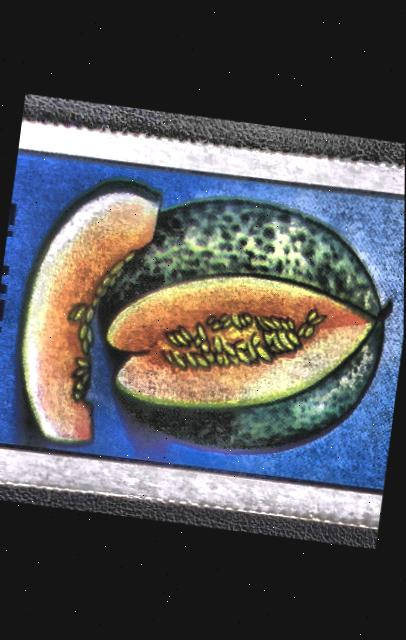El Melon: (0, 133, 405, 515)
